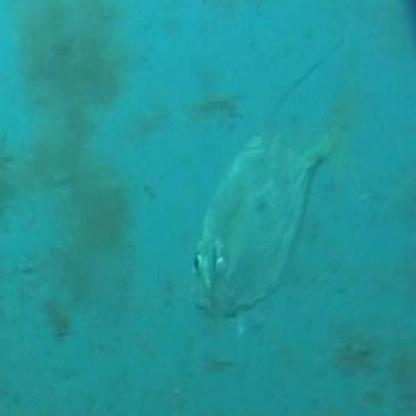Bio: (188, 33, 364, 329)
